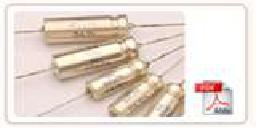Electrolytic-Capacitor: (62, 57, 173, 103), (21, 12, 170, 42)
